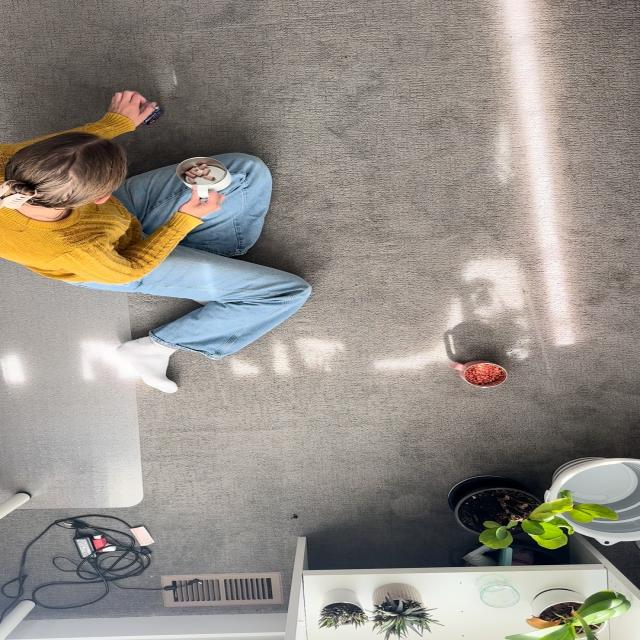IBC: (175, 156, 231, 199), (450, 360, 507, 388)
